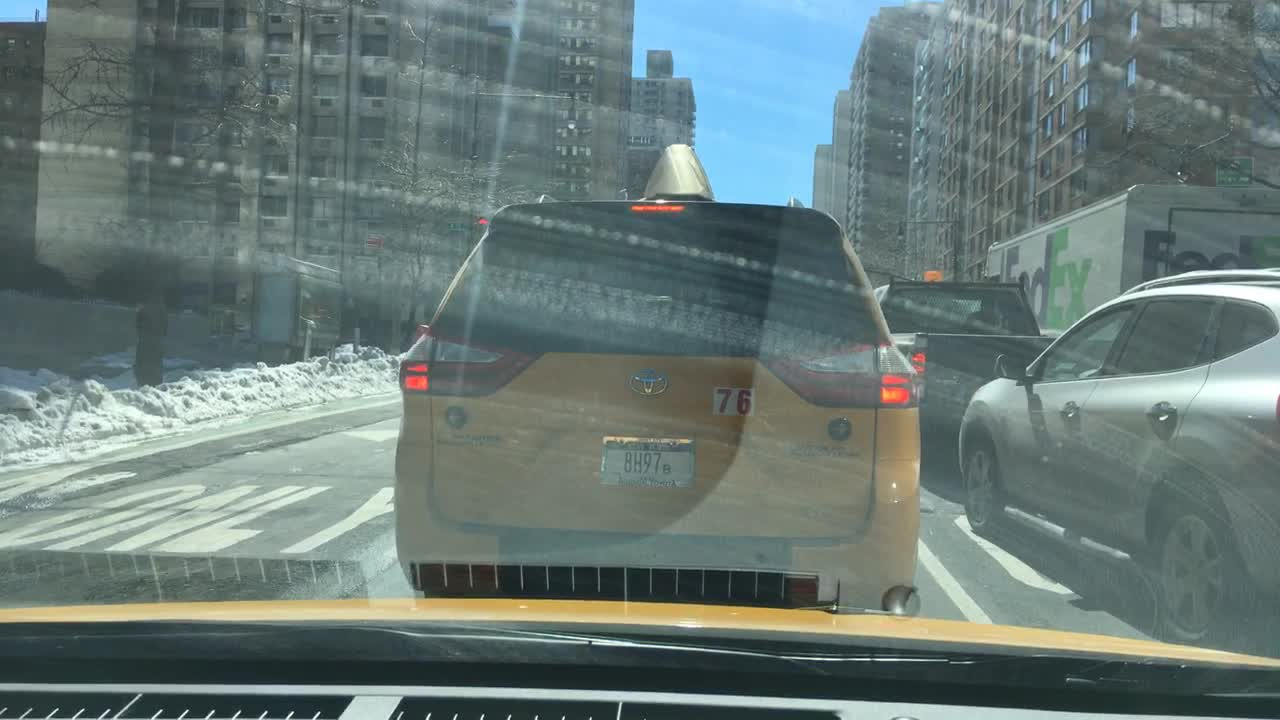car: (391, 144, 924, 612), (956, 266, 1278, 651)
traffic sign: (1212, 155, 1255, 183)
truck: (987, 184, 1278, 345), (871, 270, 1114, 440)
